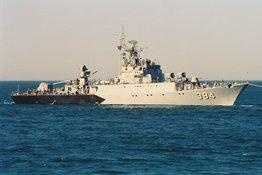warship: (13, 25, 247, 107)
